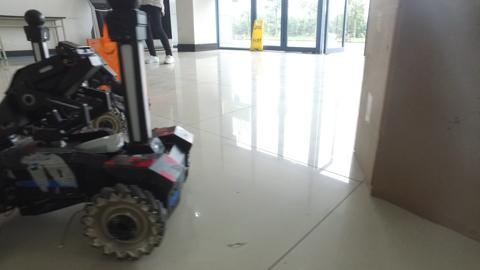chariot: (2, 1, 194, 254)
